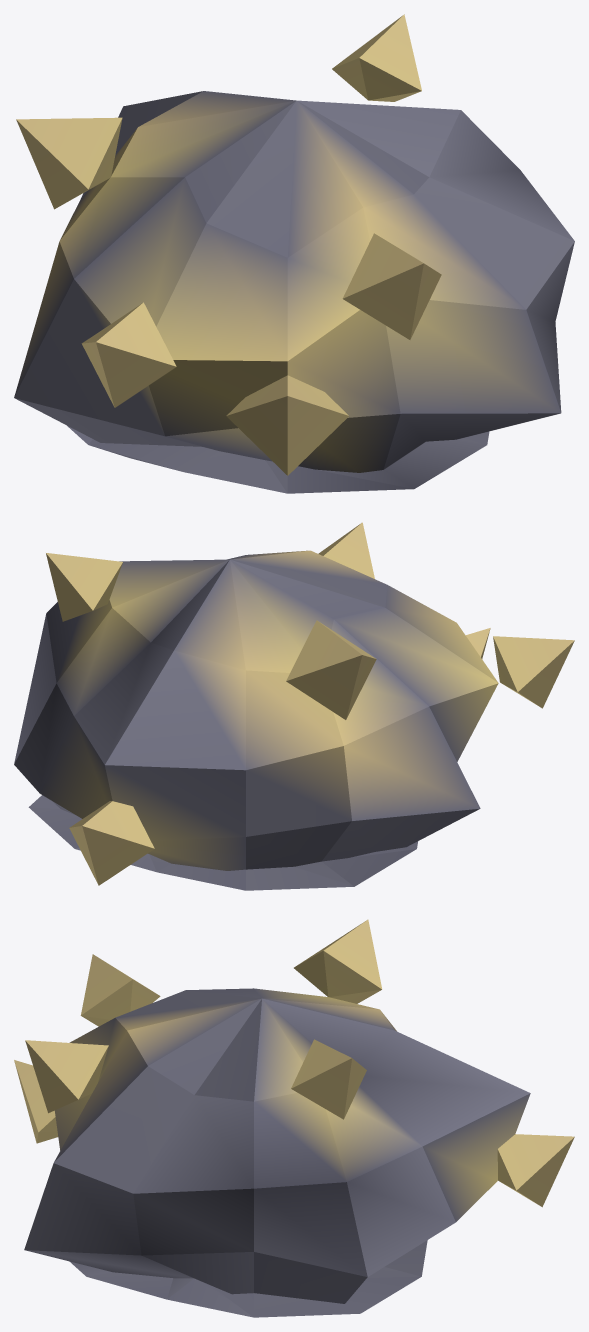
The model's file is Star_Ore.glb.
The picture shows the model from 3 angles, top to bottom: view 1: azimuth 30°, elevation 25°; view 2: azimuth 150°, elevation 25°; view 3: azimuth 270°, elevation 25°; orthographic projection. The views are drawn at different scales.
Visible parts, largest first — view 1: Star_Ore; view 2: Star_Ore; view 3: Star_Ore.
Boxes of the visible parts, box(x1,y1,x2,y2) form: Star_Ore: box(14, 14, 574, 493); Star_Ore: box(14, 522, 574, 890); Star_Ore: box(14, 919, 574, 1317).
Size of the model in its own units: 1.89 by 1.11 by 2.09.
